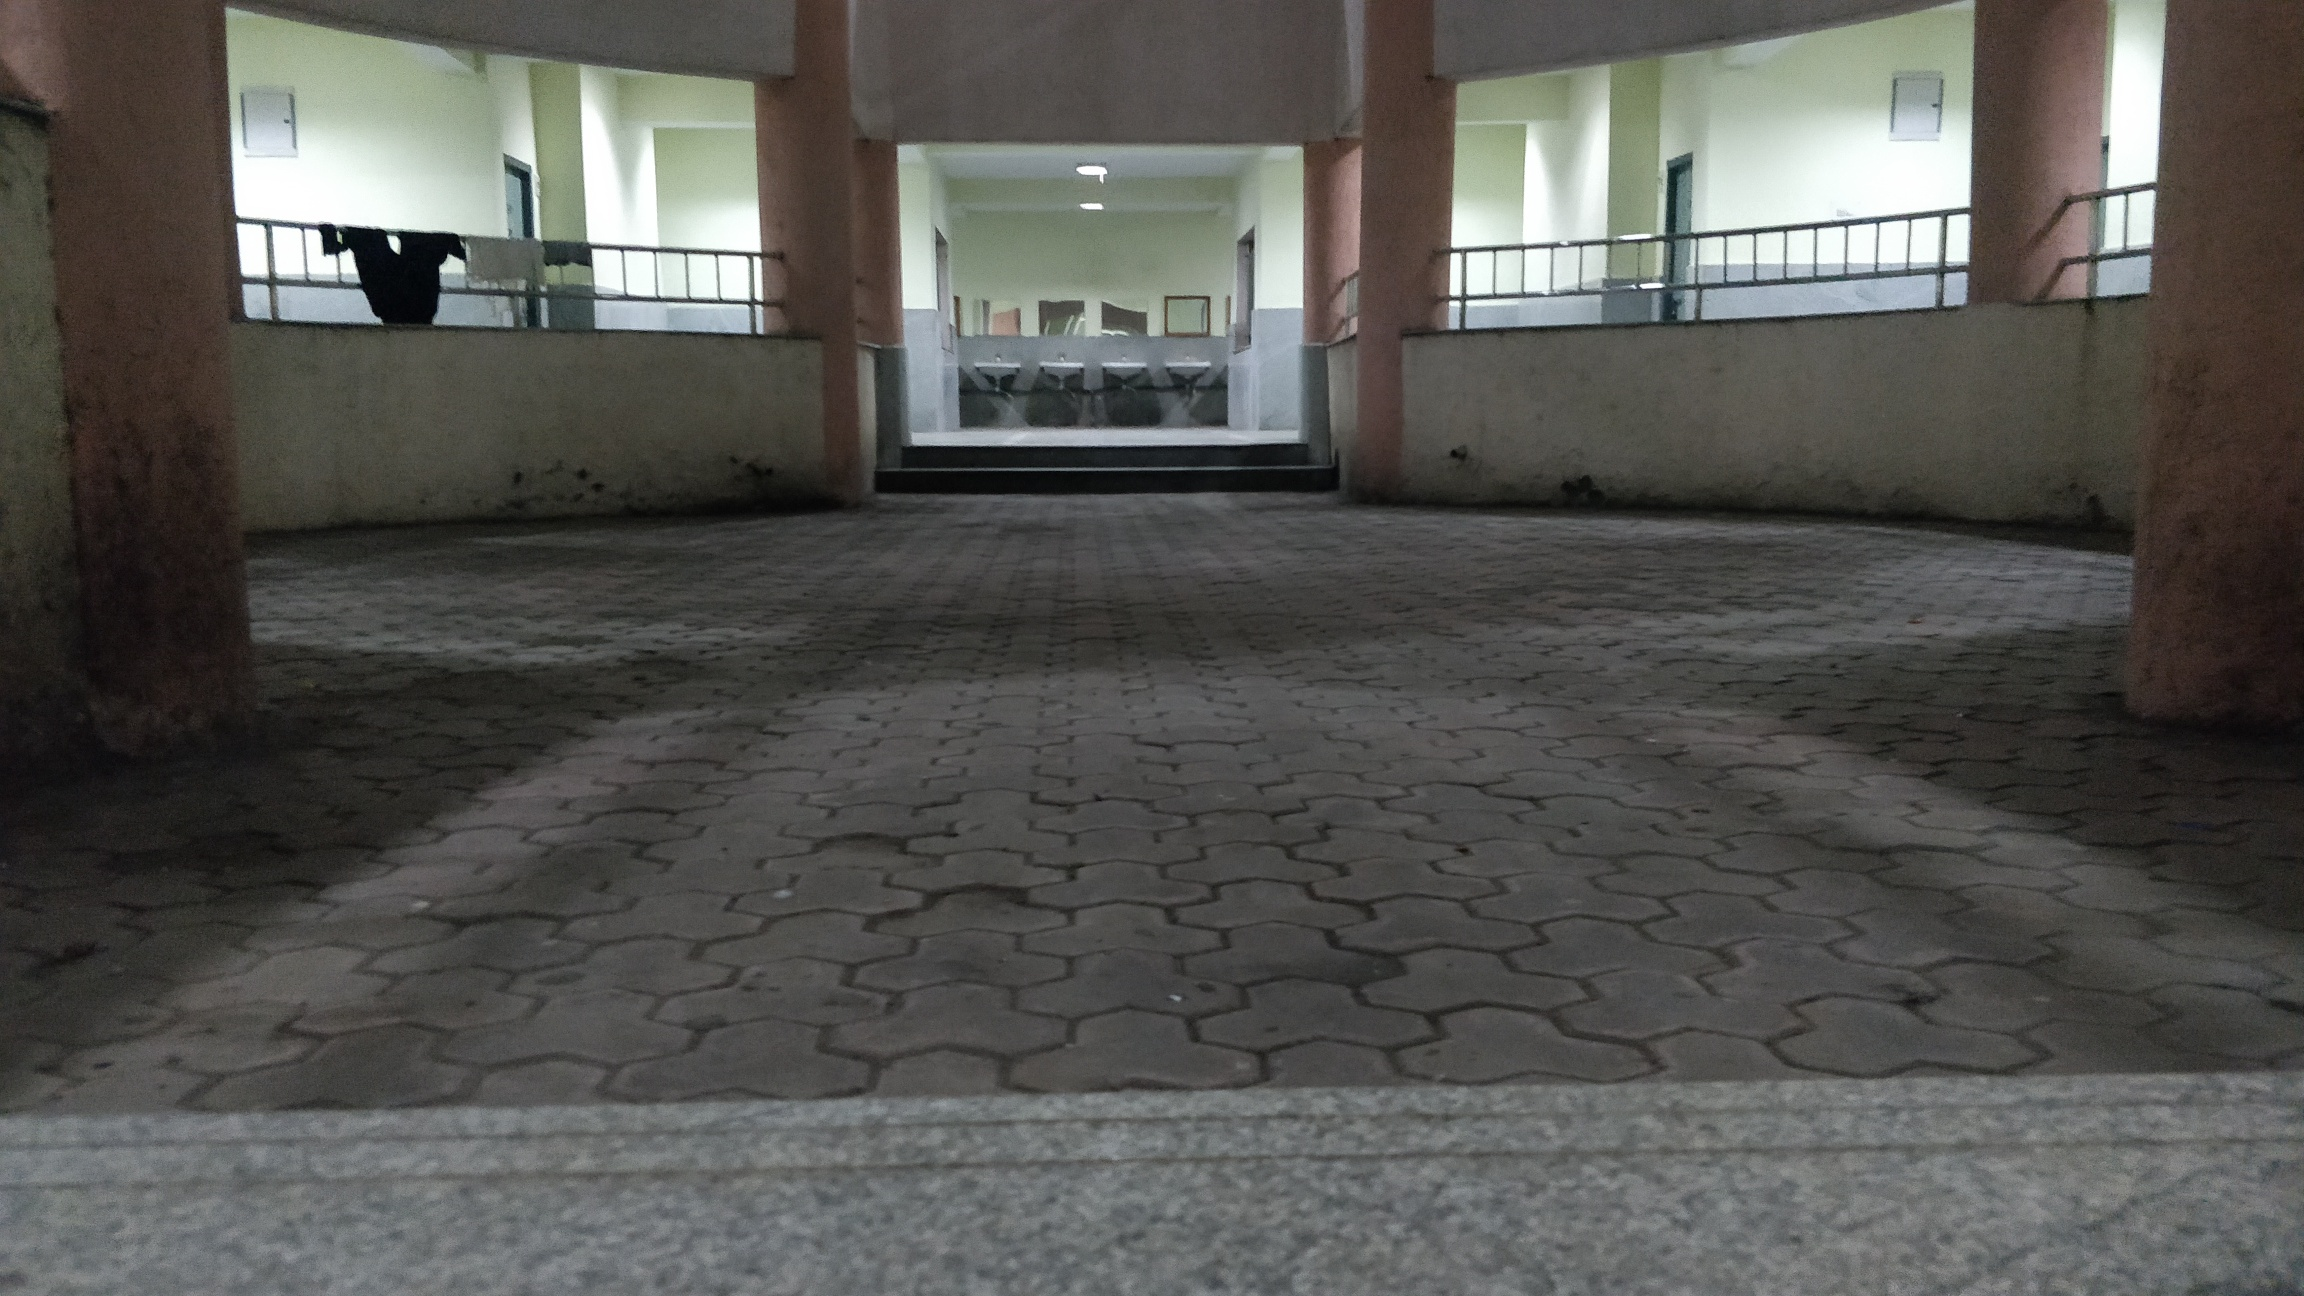stairs_up: (885, 438, 1345, 498)
